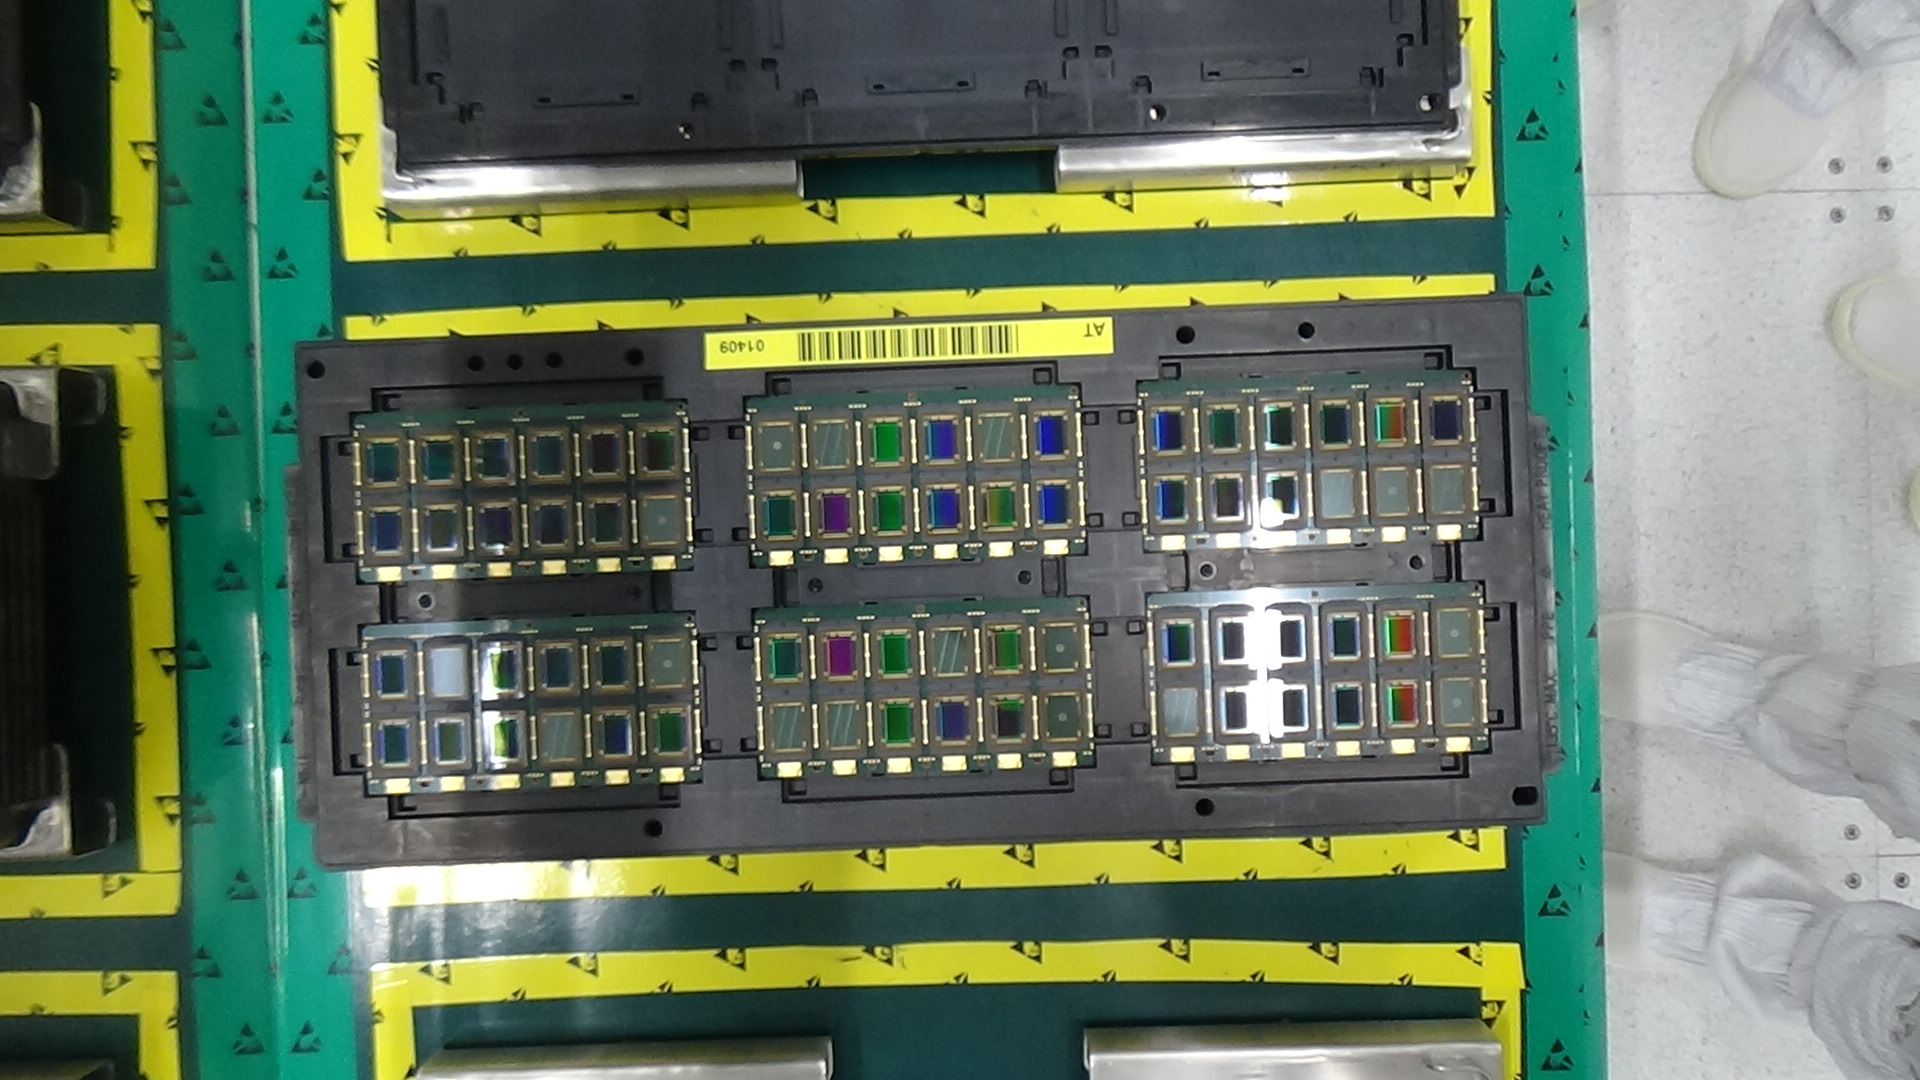Bad_mark_from_BMS_mold: (972, 404, 1025, 465), (764, 694, 814, 758), (806, 407, 855, 473), (1155, 680, 1207, 742), (926, 616, 972, 683), (1423, 458, 1472, 521), (535, 705, 583, 767), (822, 695, 868, 754)
Bad_mark_from_Maker: (641, 633, 694, 694), (752, 407, 799, 475), (1431, 595, 1478, 658), (1034, 615, 1081, 676), (1436, 669, 1482, 731), (1039, 684, 1087, 744), (638, 487, 684, 547), (1371, 459, 1418, 520)
